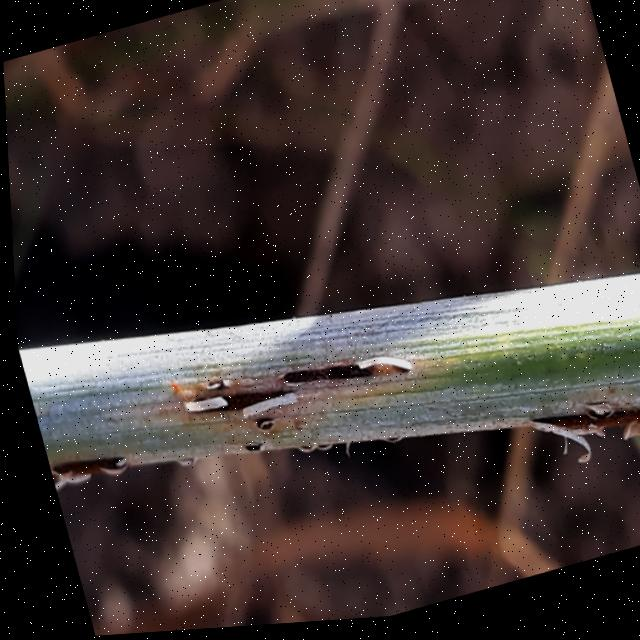black_stem_rust: (8, 166, 640, 631)
